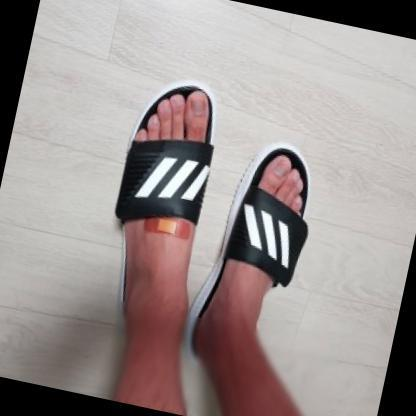no_safety-shoe: (77, 57, 232, 363), (190, 124, 335, 400)
